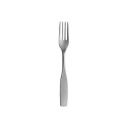fork: (52, 17, 73, 112)
